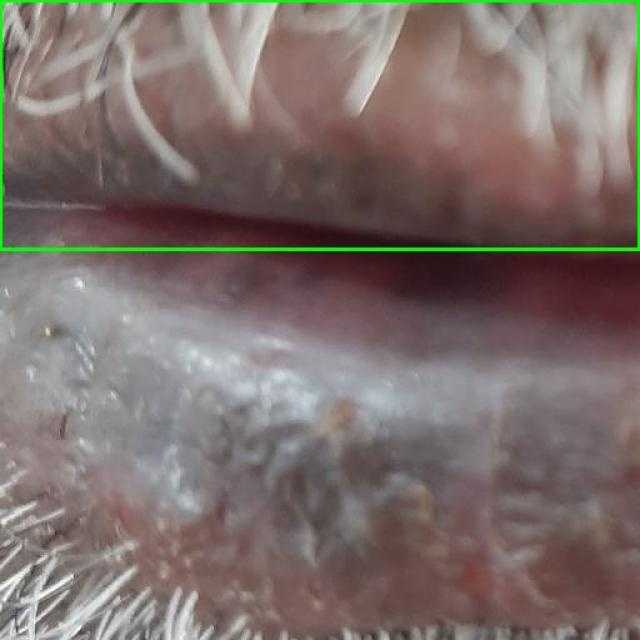Contact Dermatitis: (0, 0, 639, 249)
